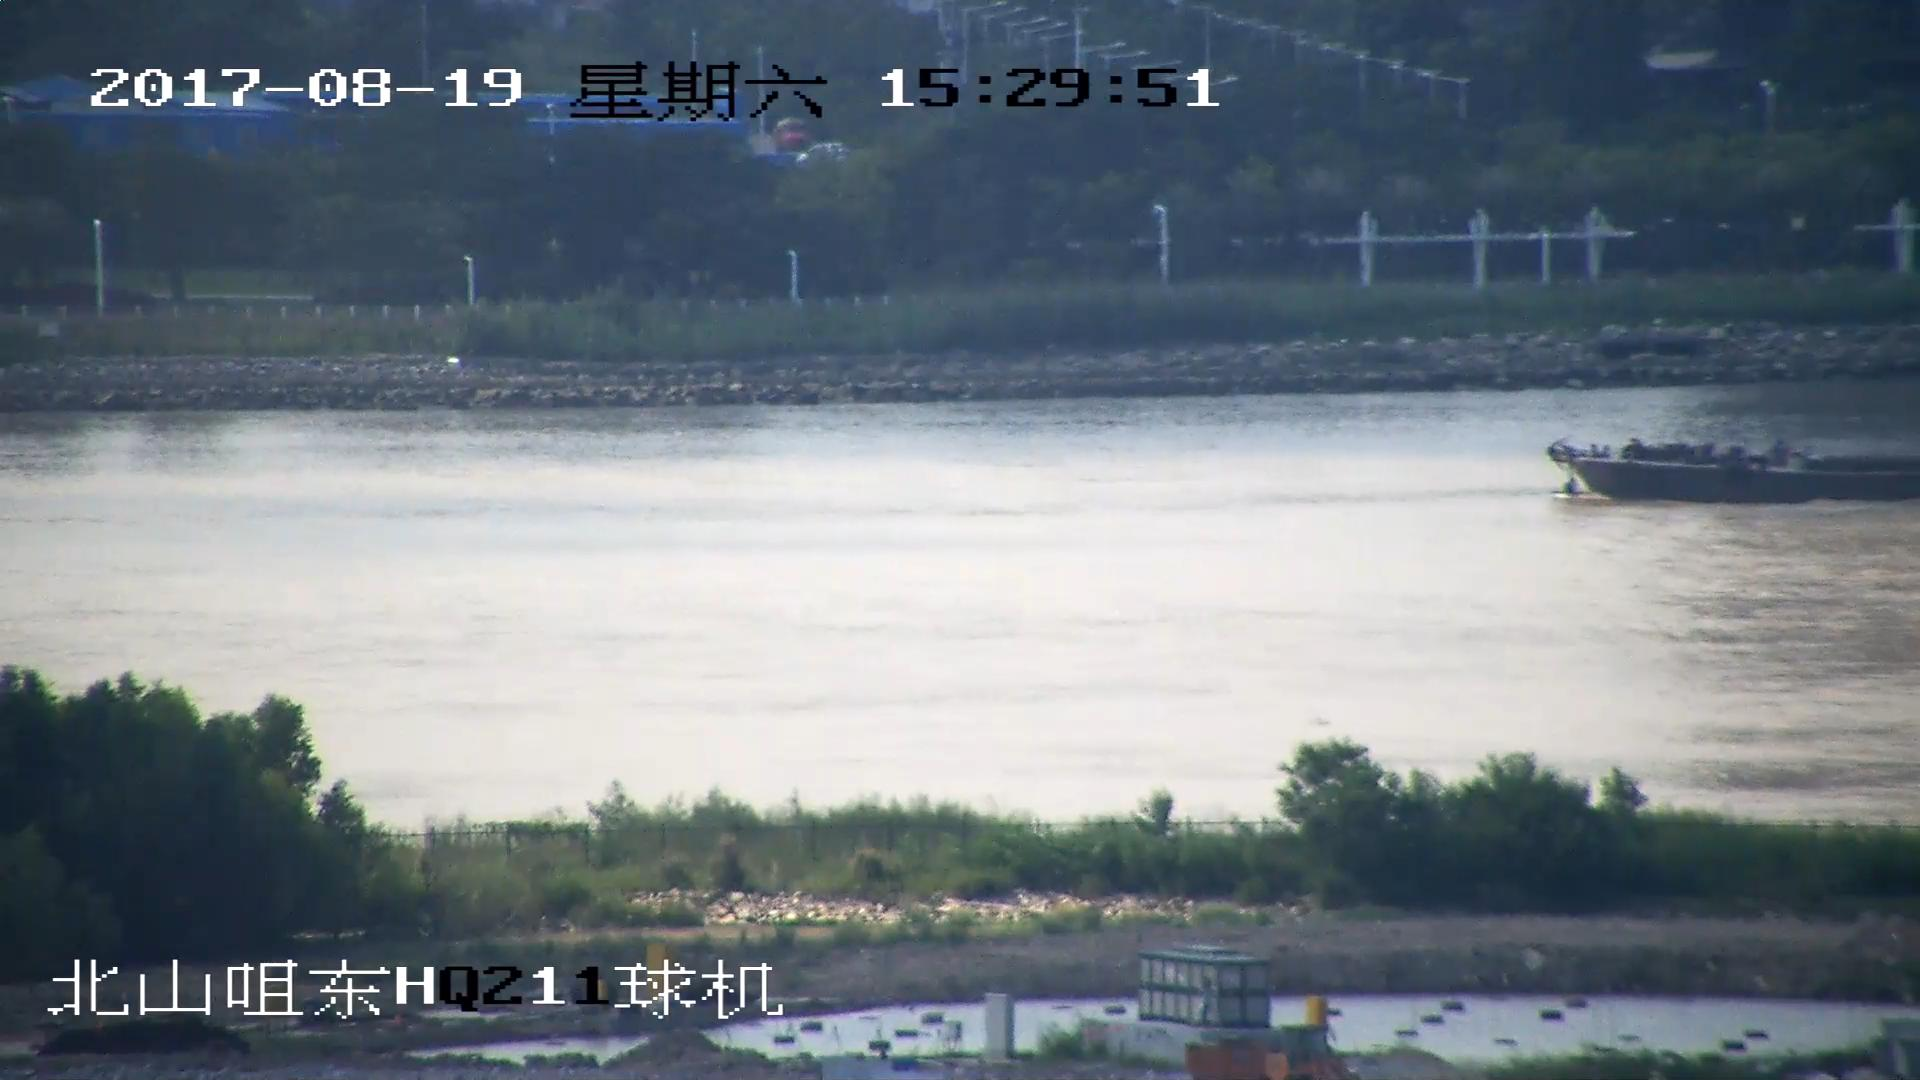ore carrier: (1542, 420, 1920, 506)
